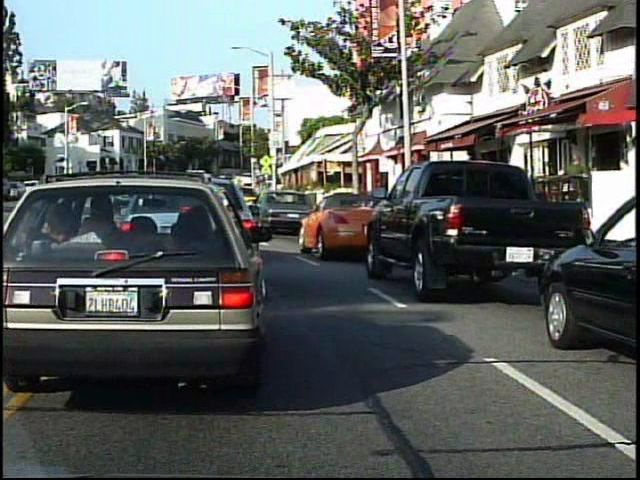person: (561, 149, 593, 224)
